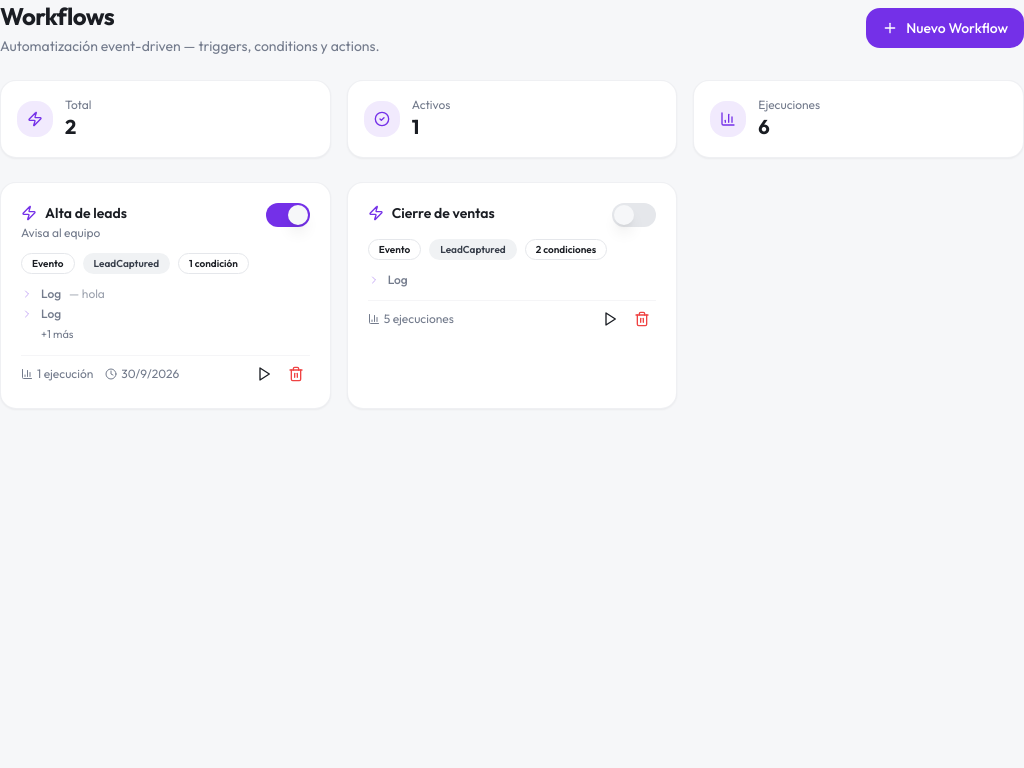
Test: Workflows, in Spanish › shows the empty run history
Expected: the text "Alta de leads" is shown, [45,203,127,223]
Click the button named "Ver ejecuciones" next to "30/9/2026" at {"x": 264, "y": 374}, box [250,360,278,388]
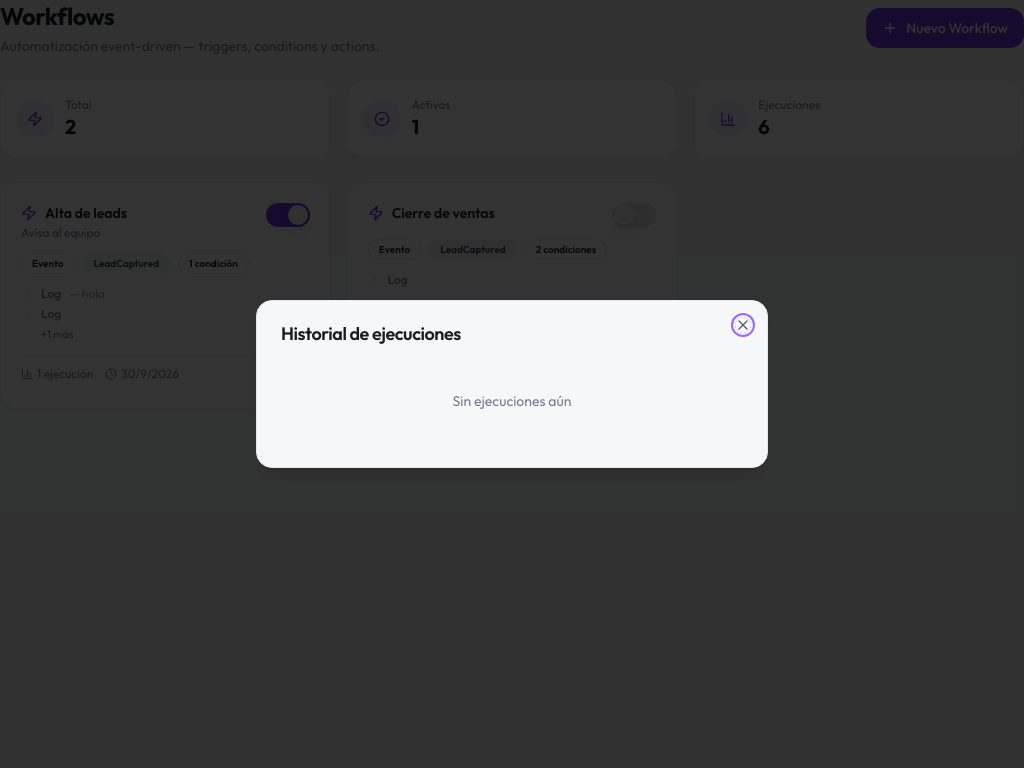
Expected: the text "Sin ejecuciones aún" is shown, [453,392,571,410]
